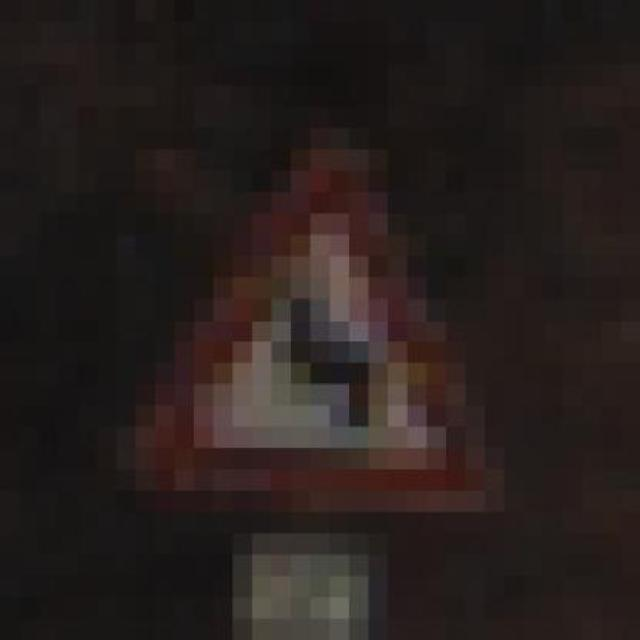Left Zig Zag Traffic: (78, 106, 524, 534)
